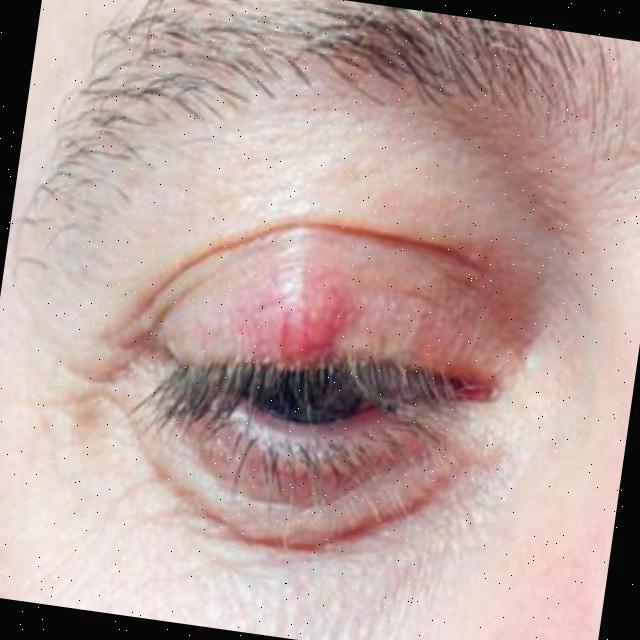Stye: (226, 230, 416, 443)
